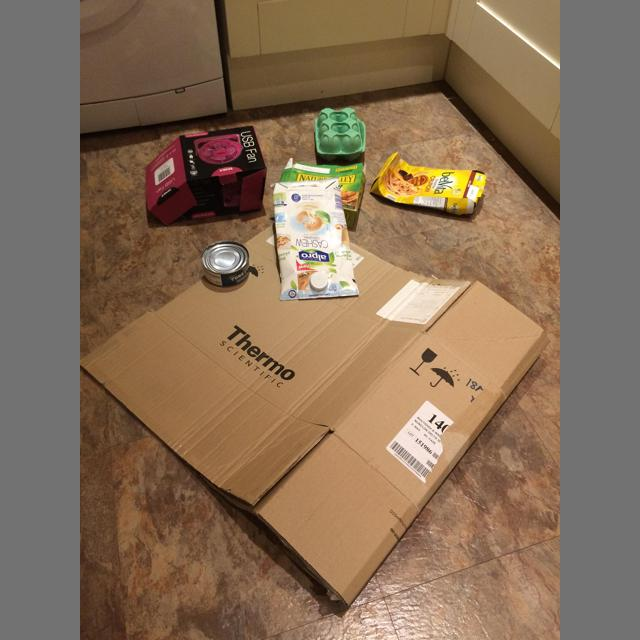litter: (80, 223, 549, 608), (146, 126, 267, 226), (273, 177, 359, 301), (370, 151, 487, 216), (279, 158, 366, 229), (315, 108, 366, 162), (201, 240, 250, 287)
